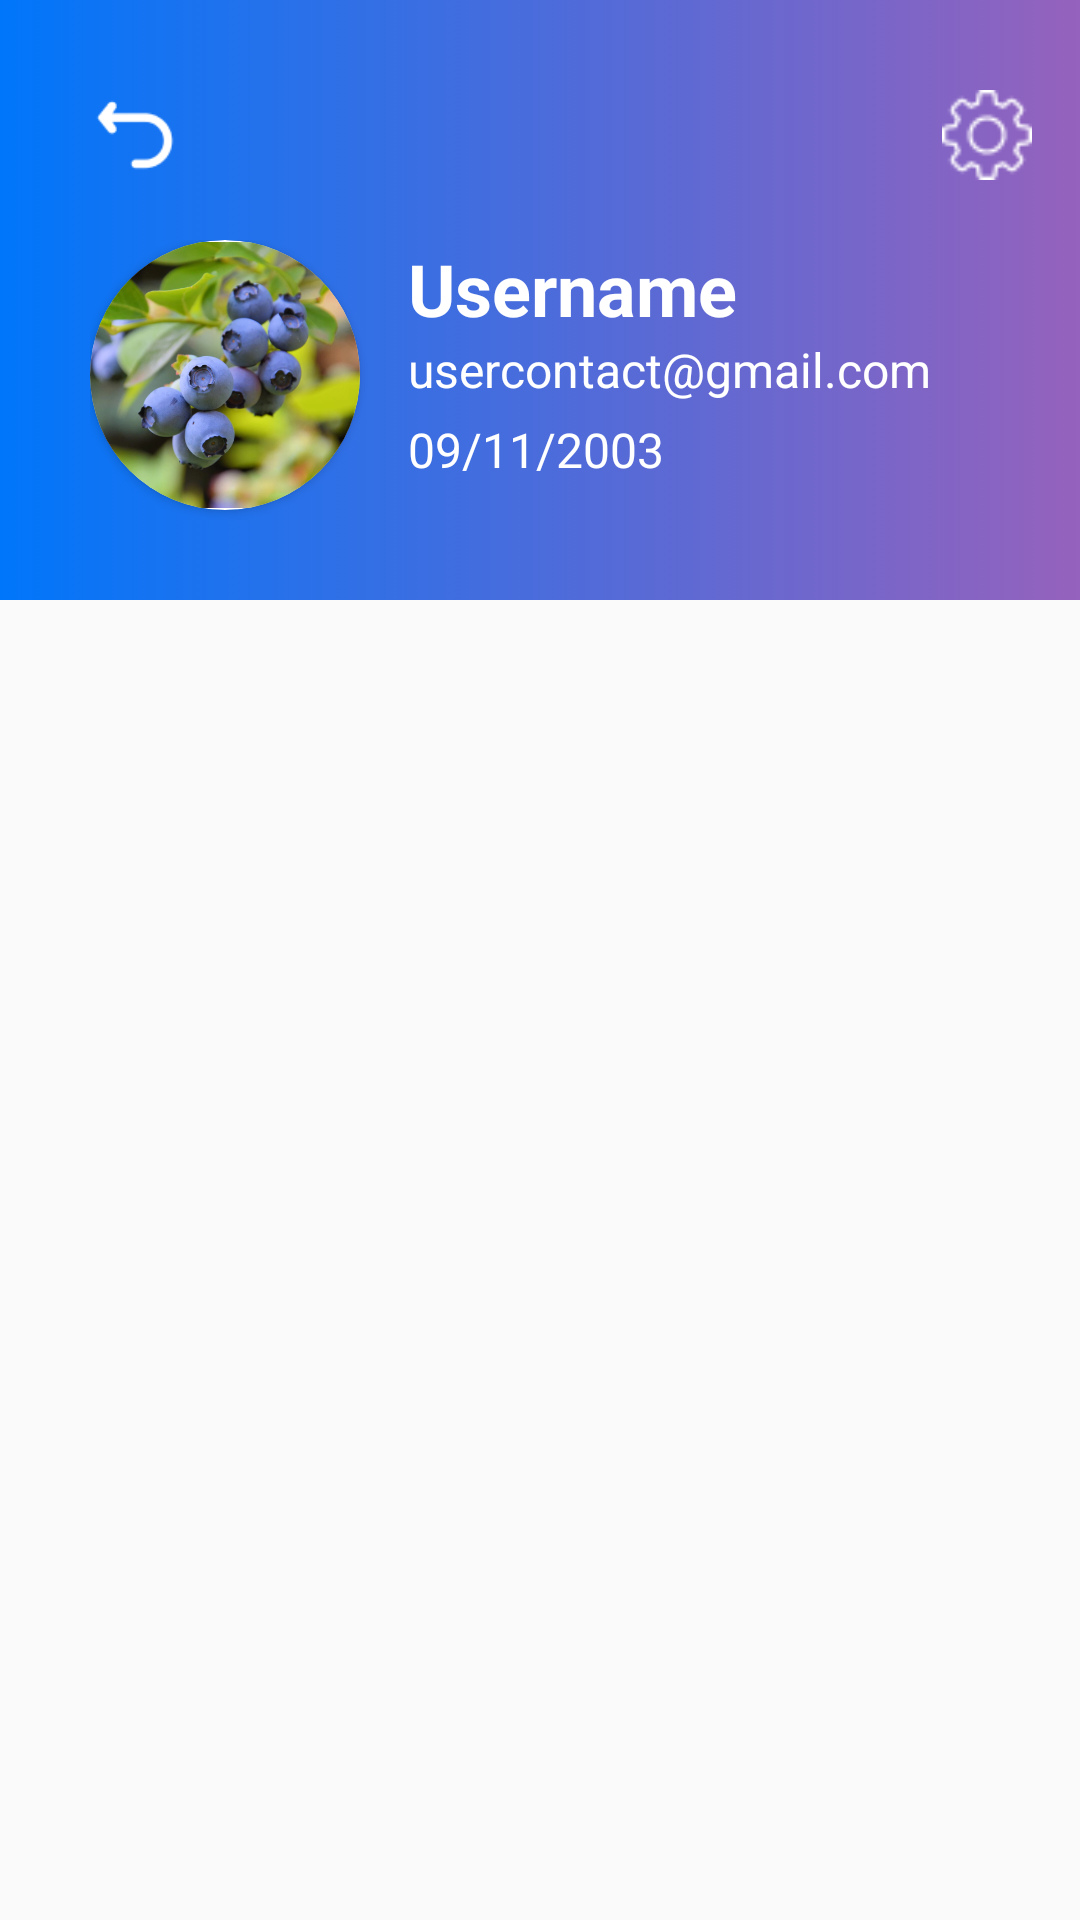

Point at icon controls on the screen. Image size 1080px x 1920px, points as (x=x, y=y).
profile settings: (x=987, y=135)
